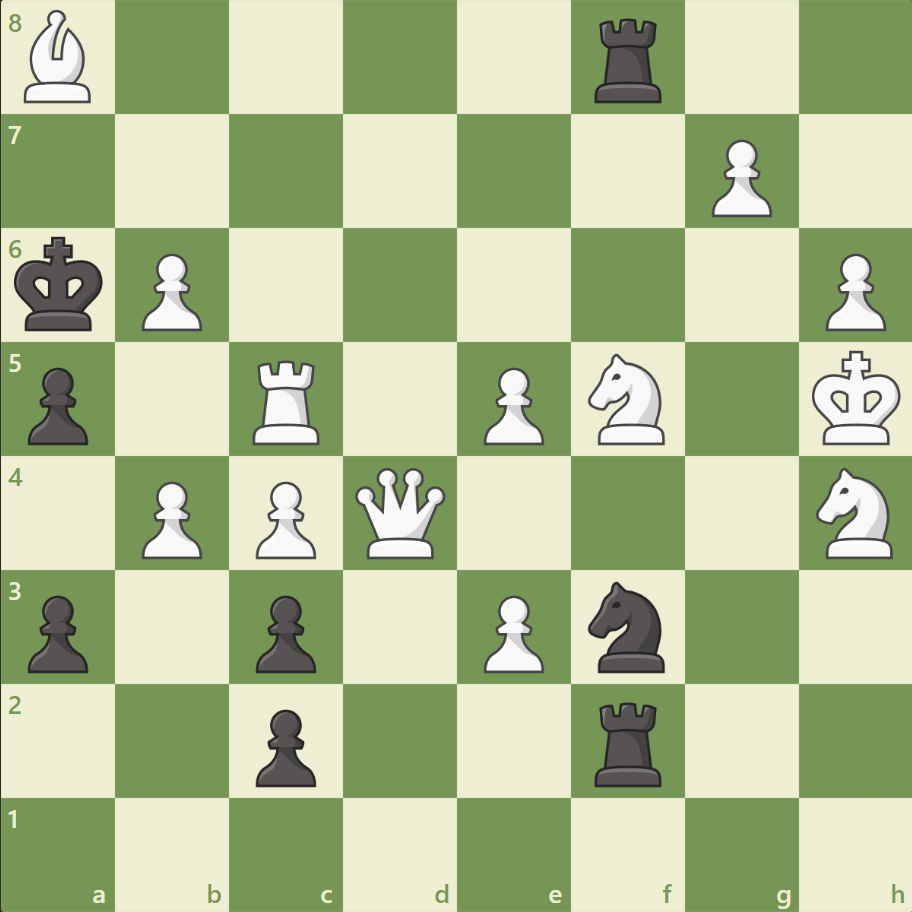B: (17, 6, 101, 109)
K: (806, 344, 906, 452)
N: (806, 461, 903, 564), (579, 348, 676, 450)
P: (701, 132, 776, 223), (133, 246, 208, 337), (474, 359, 549, 450), (133, 473, 208, 564), (247, 473, 322, 564), (474, 586, 549, 677), (815, 246, 889, 337)
Q: (351, 463, 450, 562)
R: (246, 352, 329, 449)
k: (11, 231, 111, 339)
n: (579, 575, 676, 677)
p: (20, 359, 95, 450), (20, 586, 95, 677), (247, 586, 322, 677), (247, 700, 322, 791)
r: (587, 12, 670, 109), (587, 693, 670, 790)
